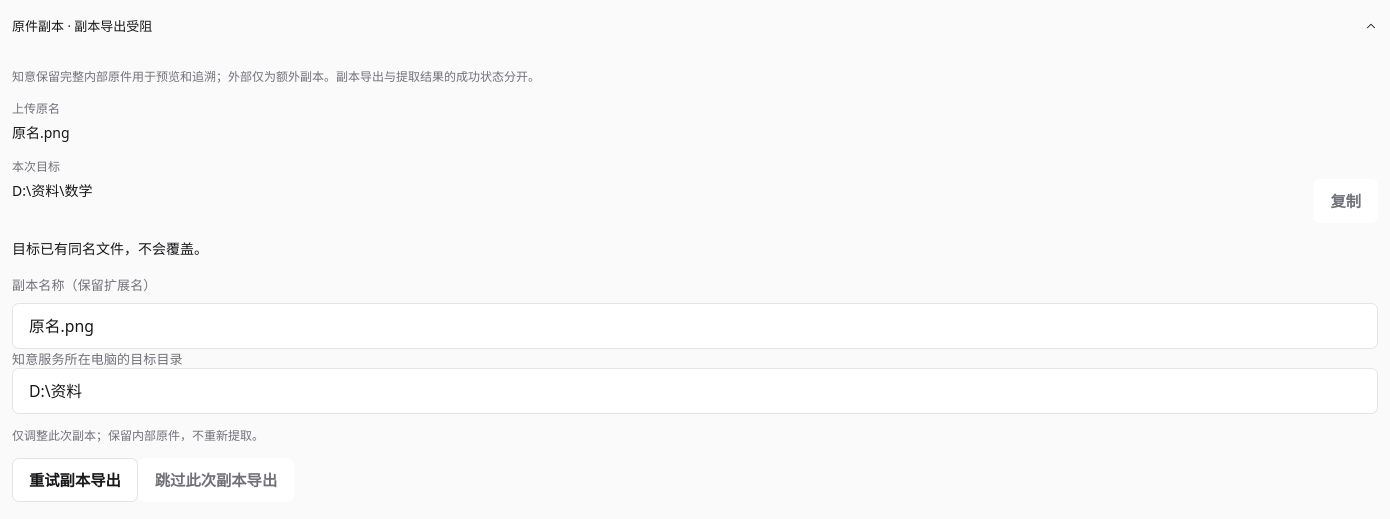
Test: changes name and path for the copy while preserving the uploaded name
Expected: the text "目标已有同名文件，不会覆盖。" is shown, left=12, top=239, right=208, bottom=258
Replace the text in the field labelled "副本名称（保留扩展名）" with "新名.png": point(695, 326) left=12, top=303, right=1378, bottom=349
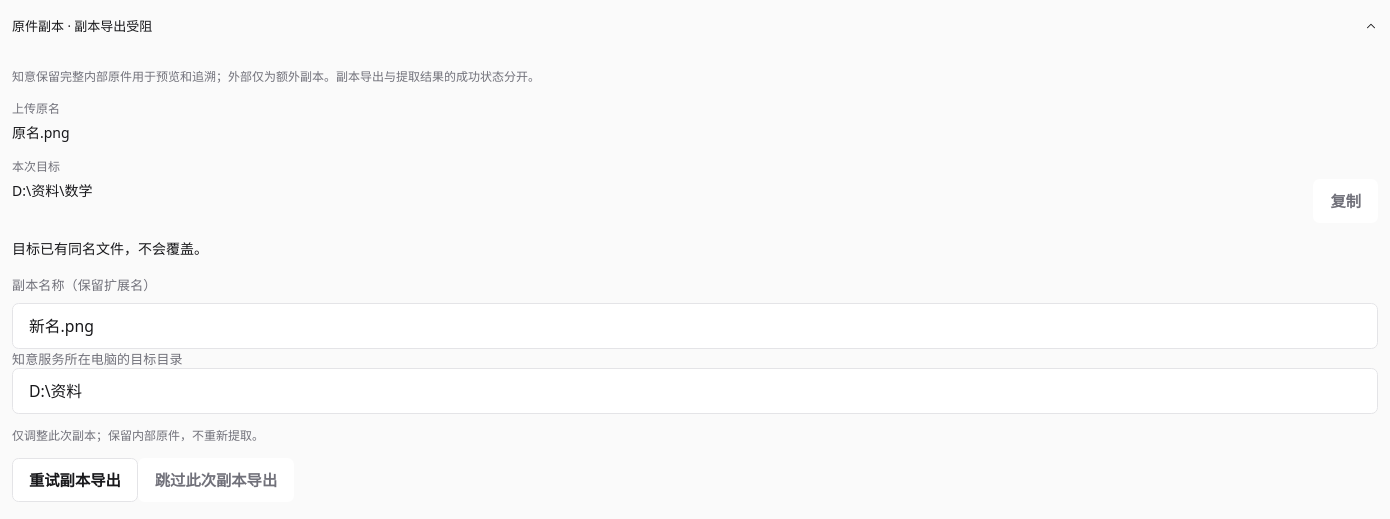
Replace the text in the field labelled "知意服务所在电脑的目标目录" with "D:\\新位置": point(695, 391) left=12, top=368, right=1378, bottom=414
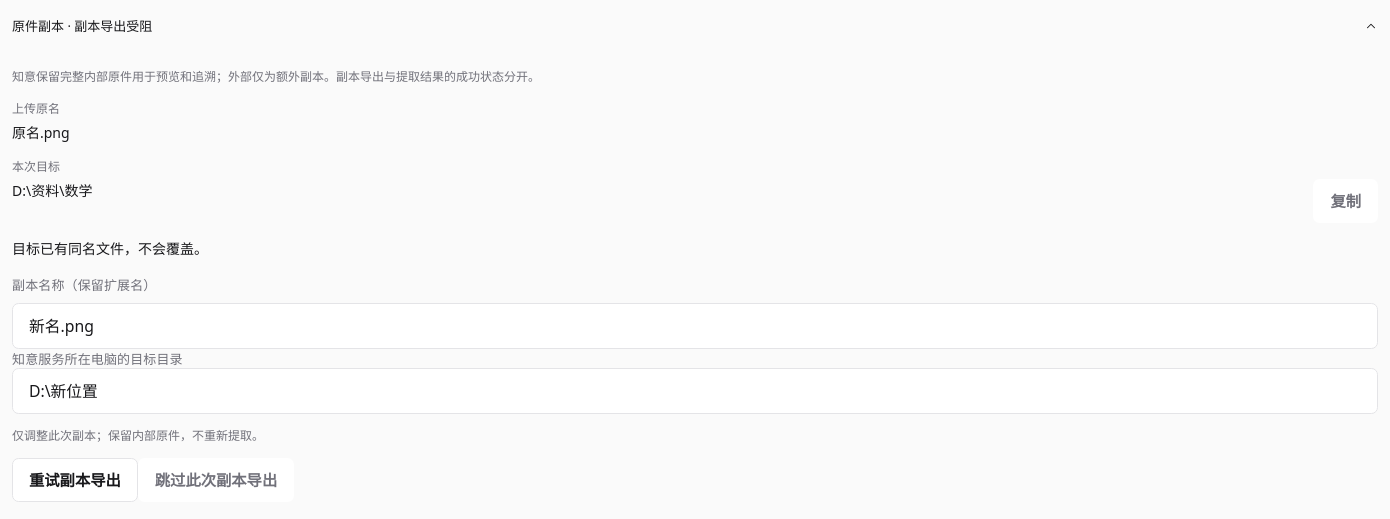
Click the button "重试副本导出": point(75, 480) left=12, top=458, right=138, bottom=502
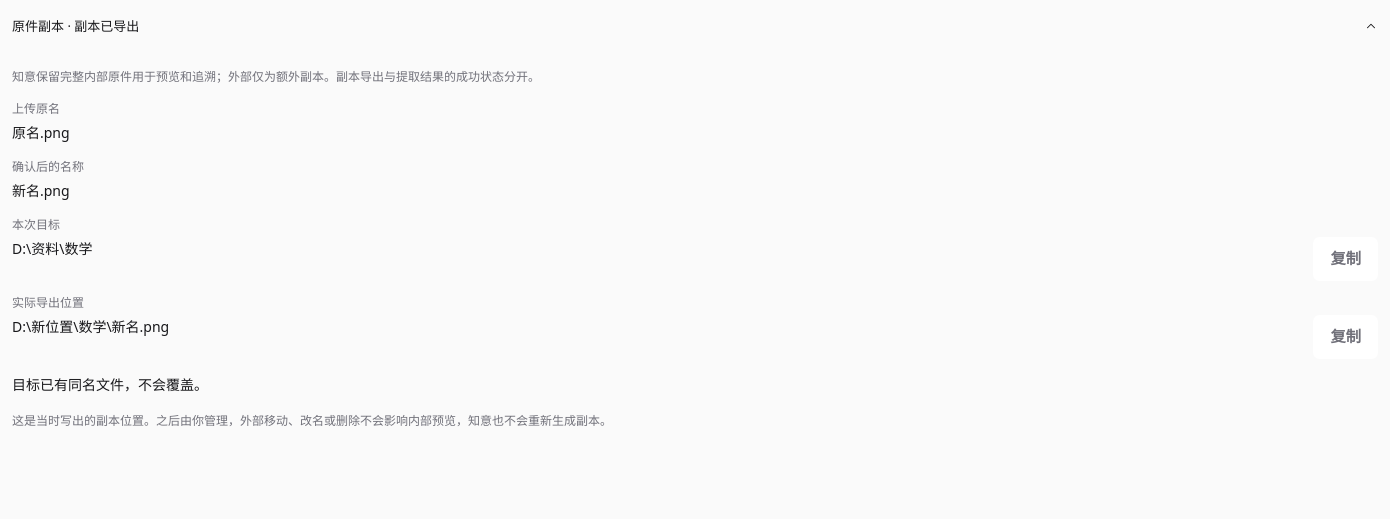
Expected: the text "原名.png" is shown, left=12, top=123, right=70, bottom=142
Expected: the text "原件副本 · 副本已导出" is shown, left=12, top=16, right=139, bottom=35
Expected: the button "重试副本导出" is gone
